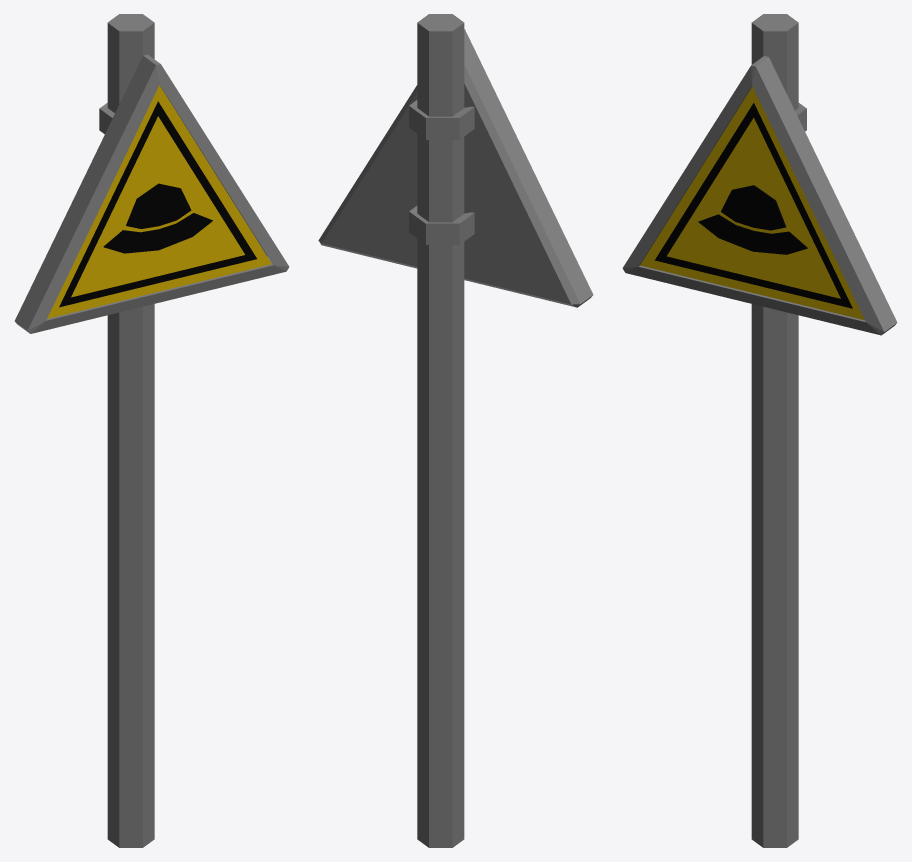
The model's file is Sign.fbx.
3 views of the same model, side by side, from view 1: azimuth 30°, elevation 25°; view 2: azimuth 150°, elevation 25°; view 3: azimuth 330°, elevation 25° (orthographic).
Visible parts, largest first — view 1: Plane.006; view 2: Plane.006; view 3: Plane.006.
Part boxes in pixels (x1=…): Plane.006: x1=14, y1=14, x2=289, y2=847; Plane.006: x1=318, y1=14, x2=593, y2=847; Plane.006: x1=622, y1=14, x2=897, y2=847.
Size of the model in its own units: 86.93 by 259 by 23.47.
